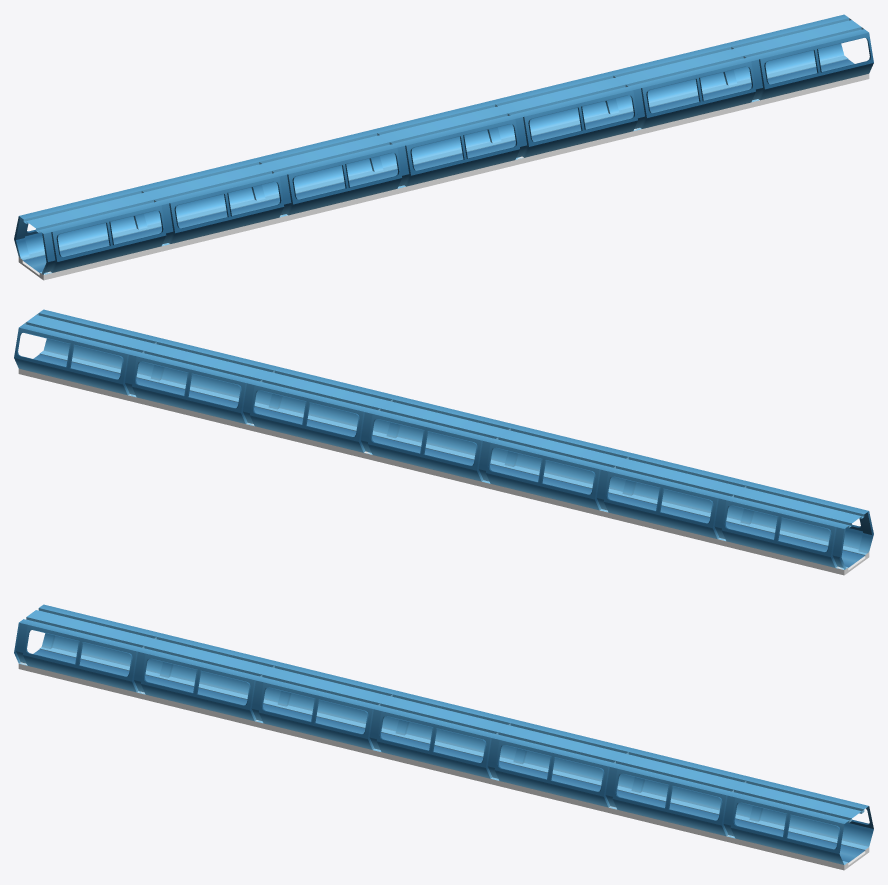
Rendered from corridor.obj.
3 views of the same model, one above another, from view 1: azimuth 30°, elevation 25°; view 2: azimuth 150°, elevation 25°; view 3: azimuth 330°, elevation 25° (orthographic).
Visible parts, largest first — view 1: Mesh; view 2: Mesh; view 3: Mesh.
Boxes of the visible parts, x1,y1,x2,y2 form: Mesh: (14, 14, 873, 280); Mesh: (14, 309, 873, 575); Mesh: (14, 604, 873, 870).
Bounding box in the file's own units: 417 × 22.43 × 31.19.
